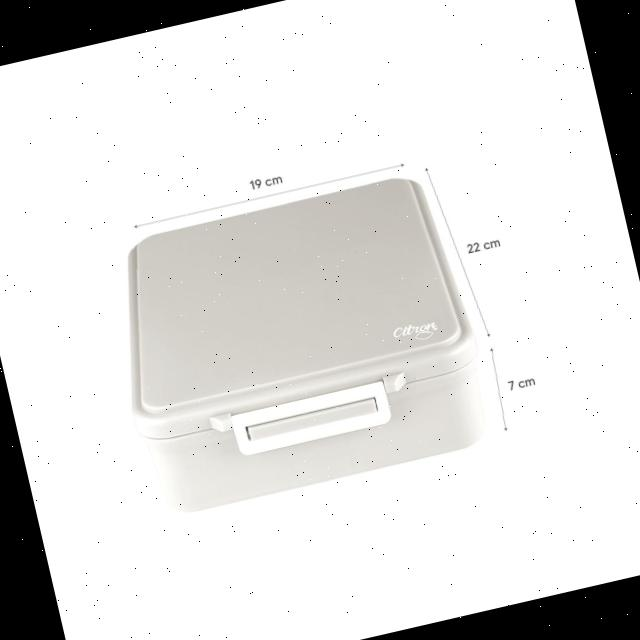styrofoam: (92, 165, 500, 521)
